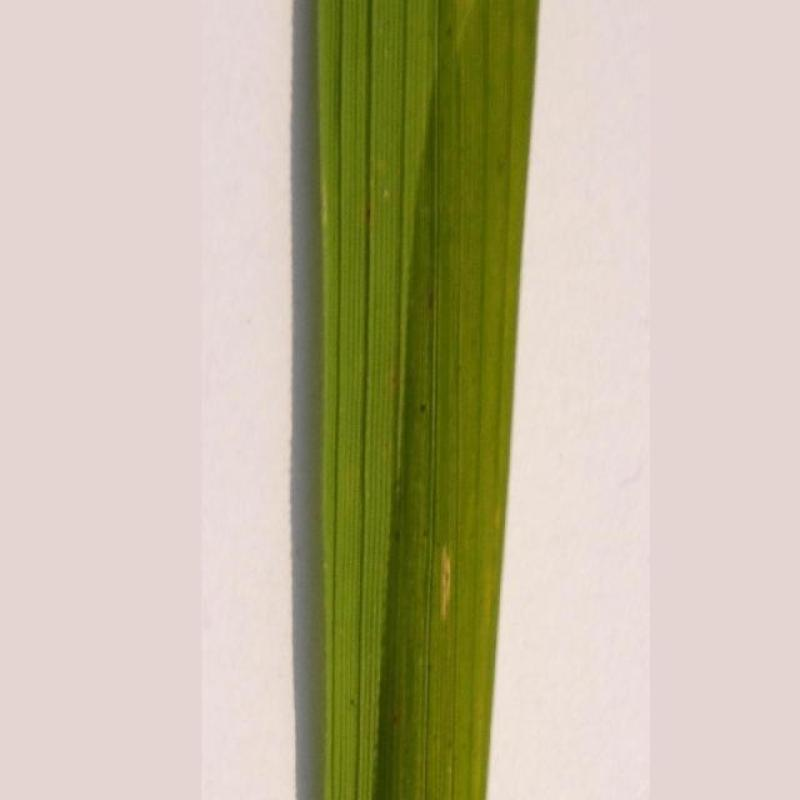Bacterial_Leaf_Blight: (409, 531, 476, 645)
